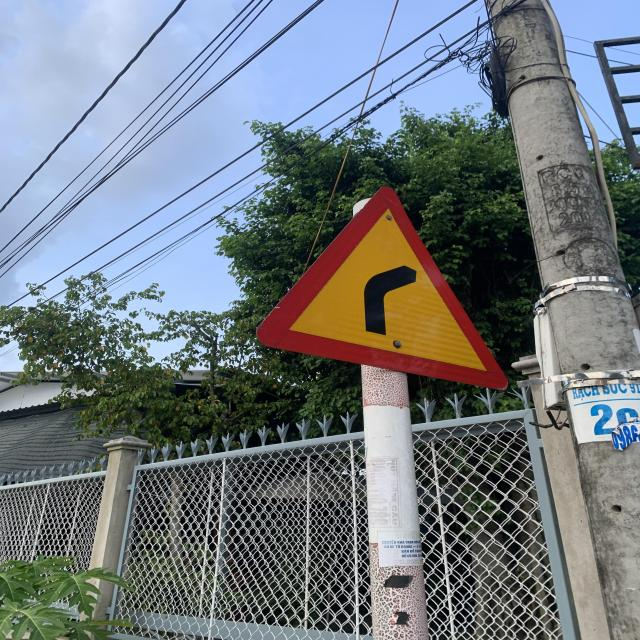Duong_Nguoi_Di_Bo_Cat_Ngang: (254, 188, 511, 390)
